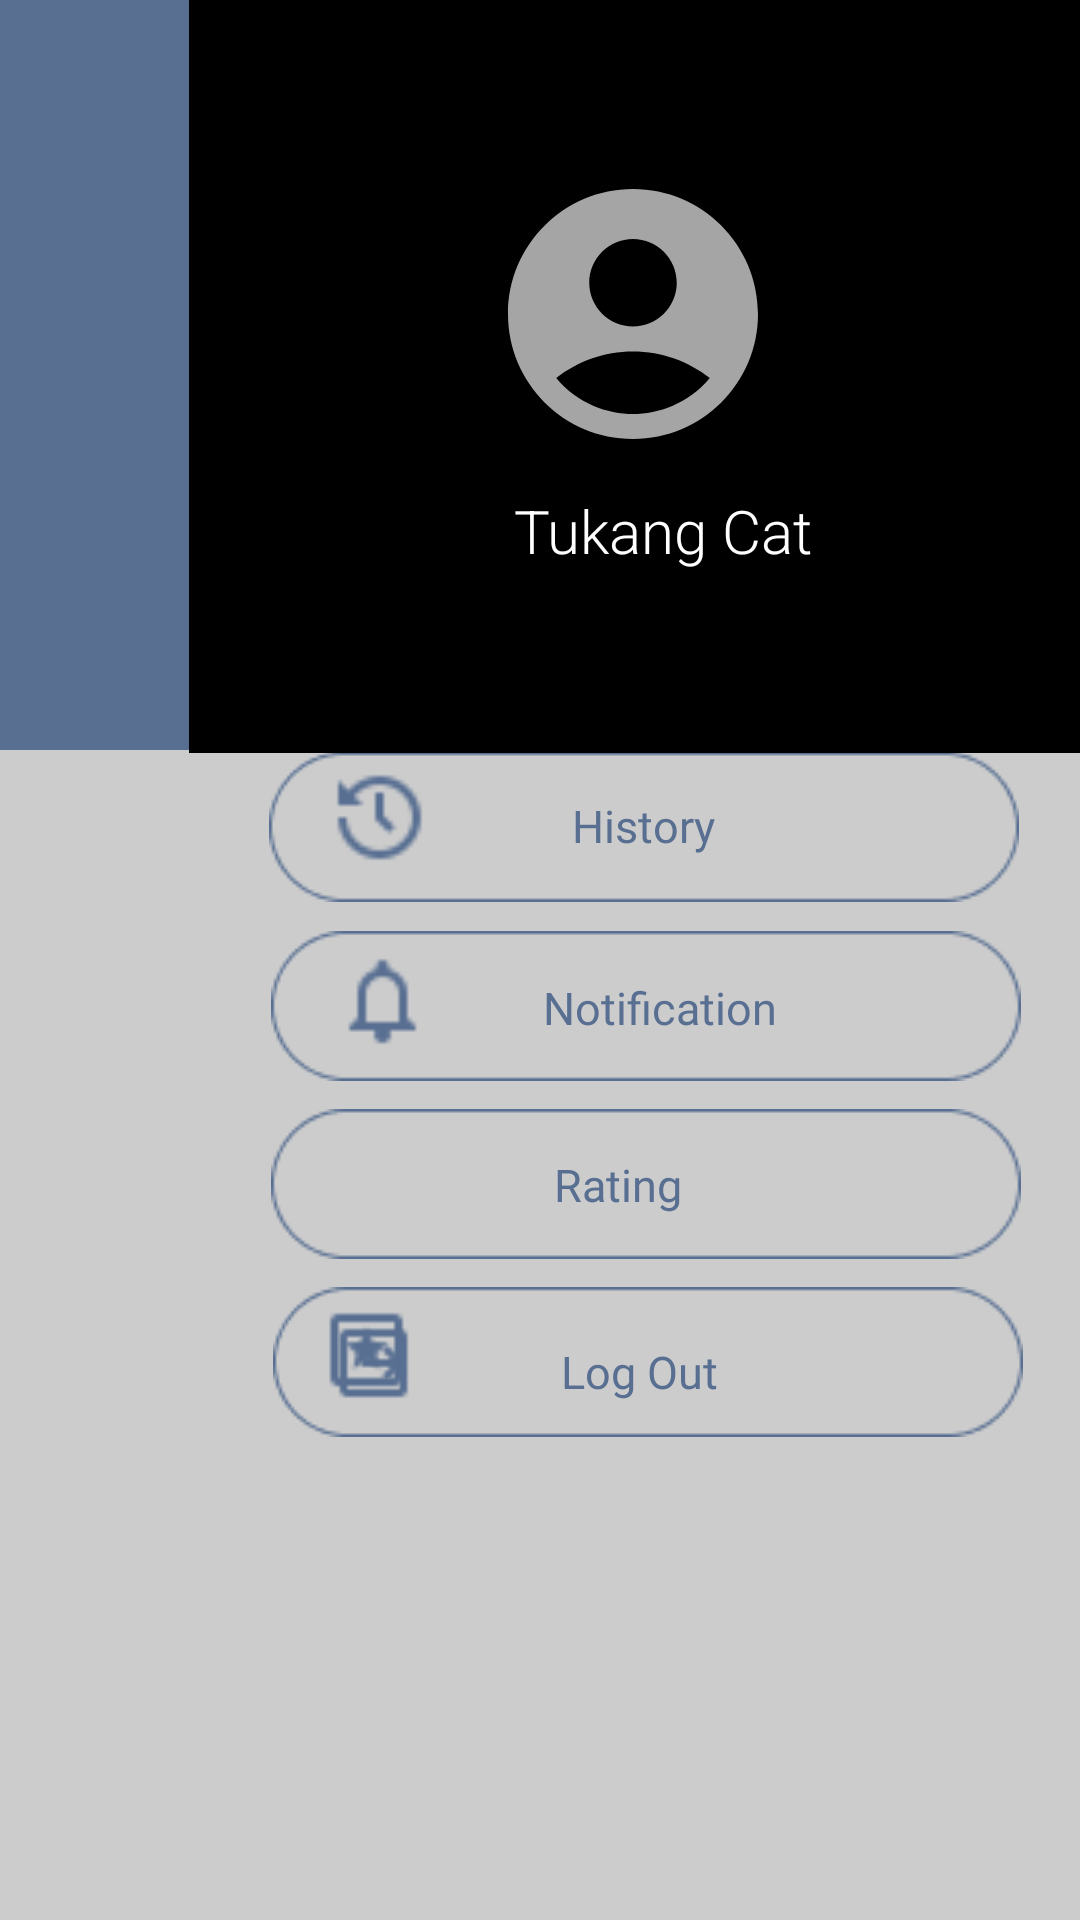

Icon click points for this 1080 x 1920 phone screenshot, format (x,y):
user: (633,314)
